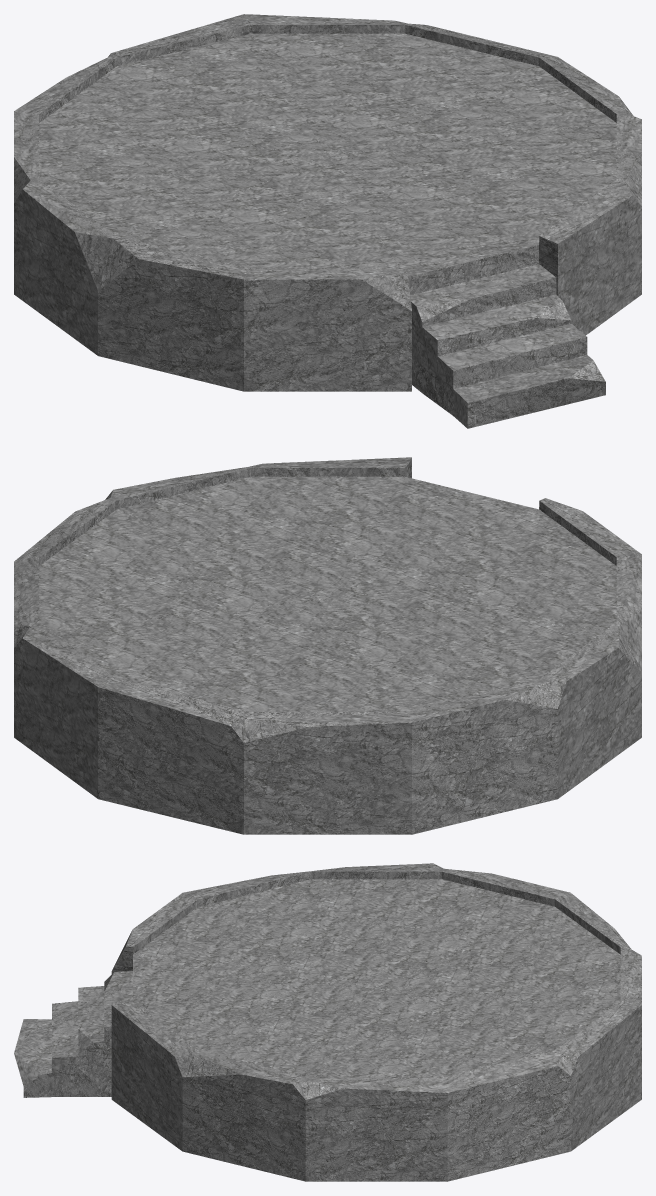
Rendered from materials_3_base_1.fbx.
3 views of the same model, one above another, from view 1: azimuth 30°, elevation 25°; view 2: azimuth 150°, elevation 25°; view 3: azimuth 270°, elevation 25° (orthographic). The views are drawn at different scales.
Visible parts, largest first — view 1: materials_3_base_1; view 2: materials_3_base_1; view 3: materials_3_base_1.
Boxes of the visible parts, bbox=[...] form: materials_3_base_1: bbox=[14, 14, 641, 428]; materials_3_base_1: bbox=[14, 457, 641, 834]; materials_3_base_1: bbox=[14, 863, 641, 1181].
Size of the model in its own units: 470 by 92.55 by 556.
